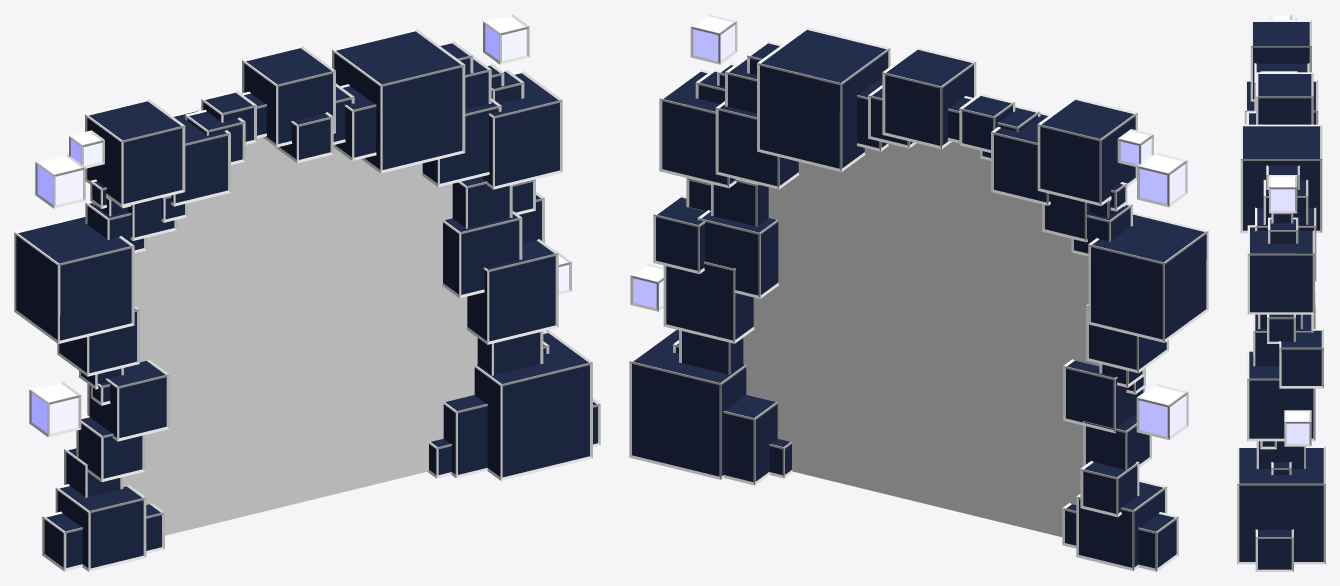
Rendered from portail Arrivée.fbx.
3 views of the same model, side by side, from view 1: azimuth 30°, elevation 25°; view 2: azimuth 150°, elevation 25°; view 3: azimuth 270°, elevation 25° (orthographic). The views are drawn at different scales.
Parts seen in each view (by area): view 1: Cube, Plane, outline, anim, outlineanim; view 2: Cube, Plane, outline, anim, outlineanim; view 3: Cube, outline, anim, outlineanim.
Part boxes in pixels (x1=…): Cube: x1=16, y1=31, x2=597, y2=568; Plane: x1=123, y1=137, x2=477, y2=535; outline: x1=14, y1=29, x2=600, y2=571; anim: x1=31, y1=16, x2=568, y2=433; outlineanim: x1=29, y1=14, x2=571, y2=437; Cube: x1=632, y1=30, x2=1206, y2=568; Plane: x1=743, y1=142, x2=1099, y2=536; outline: x1=629, y1=27, x2=1208, y2=571; anim: x1=633, y1=16, x2=1186, y2=436; outlineanim: x1=630, y1=14, x2=1188, y2=440; Cube: x1=1239, y1=22, x2=1323, y2=569; outline: x1=1237, y1=20, x2=1325, y2=571; anim: x1=1271, y1=15, x2=1309, y2=443; outlineanim: x1=1266, y1=14, x2=1311, y2=446.
Bounding box in the file's own units: 1801 × 1377 × 302.
